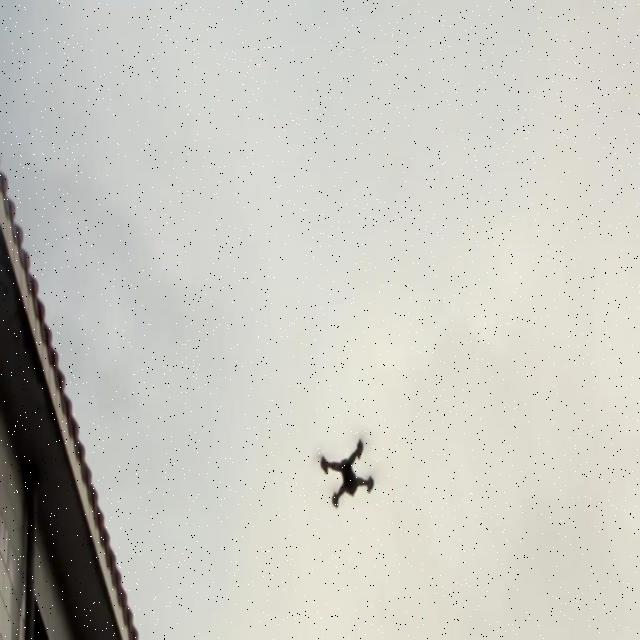UAV: (320, 436, 374, 510)
